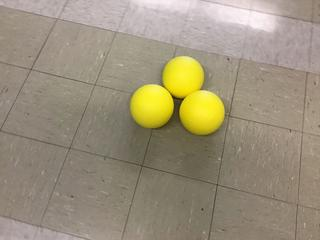power_cell: (176, 82, 230, 138), (129, 82, 176, 130), (162, 53, 208, 97)
